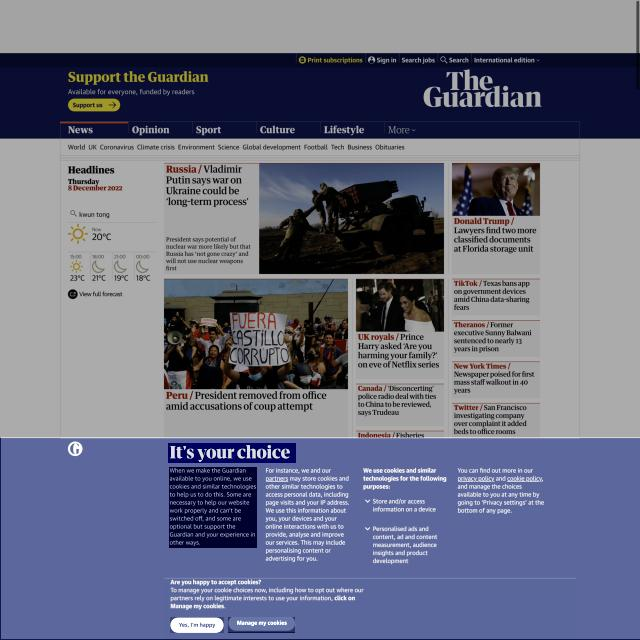CheckBox: (228, 618, 295, 634), (170, 617, 224, 633)
Input field: (169, 467, 257, 548)
header: (1, 437, 640, 639)
image: (168, 443, 296, 463)
